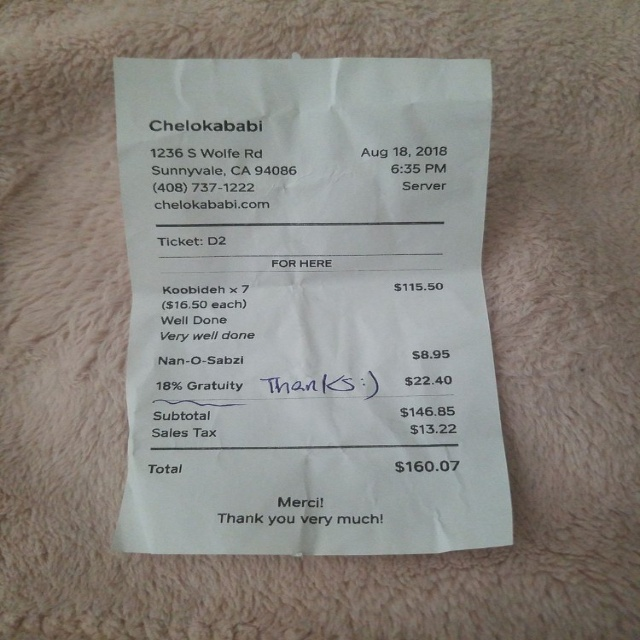invoice_table: (157, 281, 449, 365)
invoice_title: (150, 144, 297, 211)
invoice_total: (146, 462, 459, 475)
